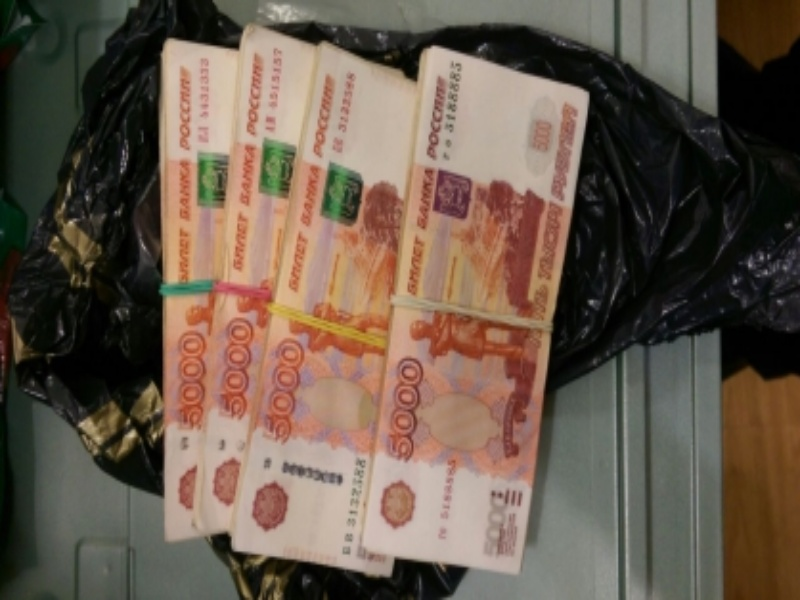cash: (162, 25, 591, 571)
